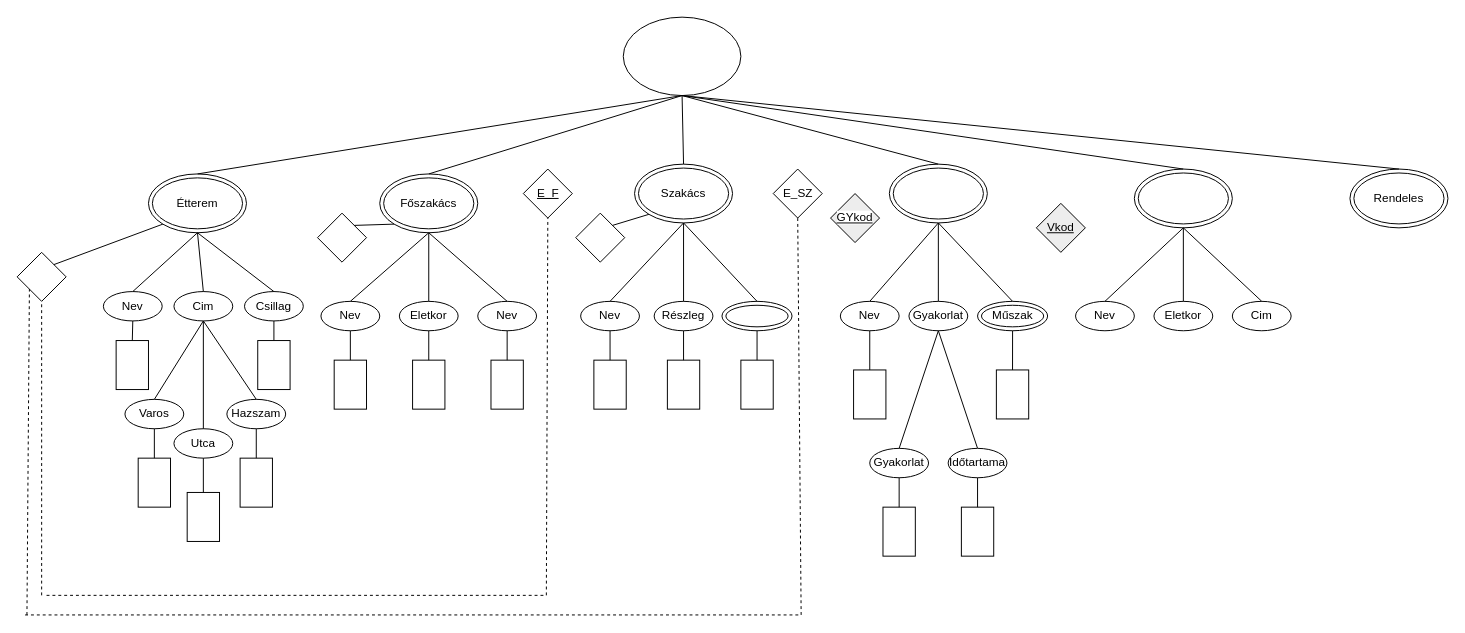
Some shapes in this 1465 by 633 pixel diagram are drawn without their labels. Each missing label, with the centre of its shape:
Ekod: point 41,276
Fkod: point 342,237
Gyakornok: point 937,193
Q25EP3_Vendeglatas: point 681,56
SZkod: point 600,237
Vegzettseg: point 756,315
Vendég: point 1182,198
